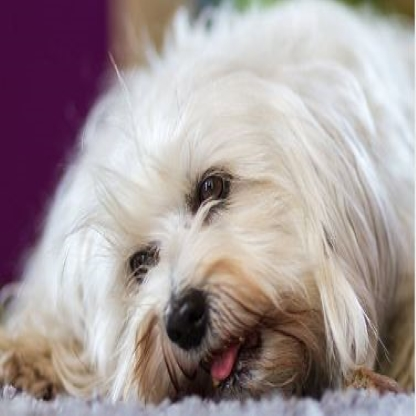maltese: (14, 9, 414, 403)
